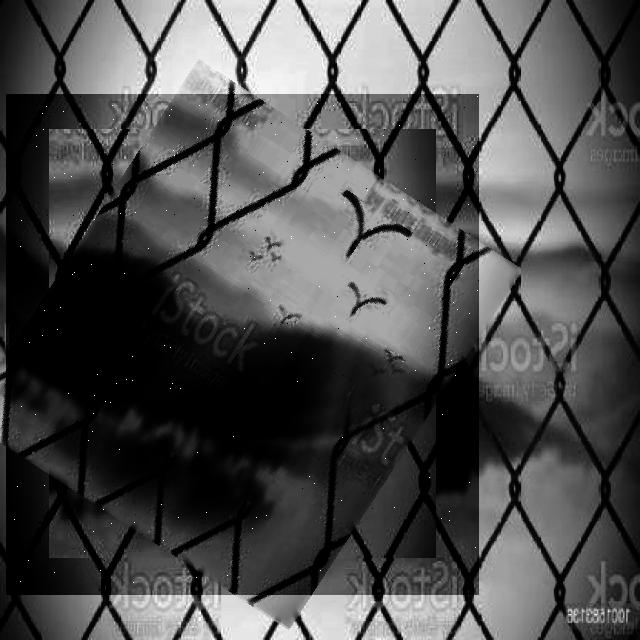anomaly-fence: (6, 94, 479, 595)
